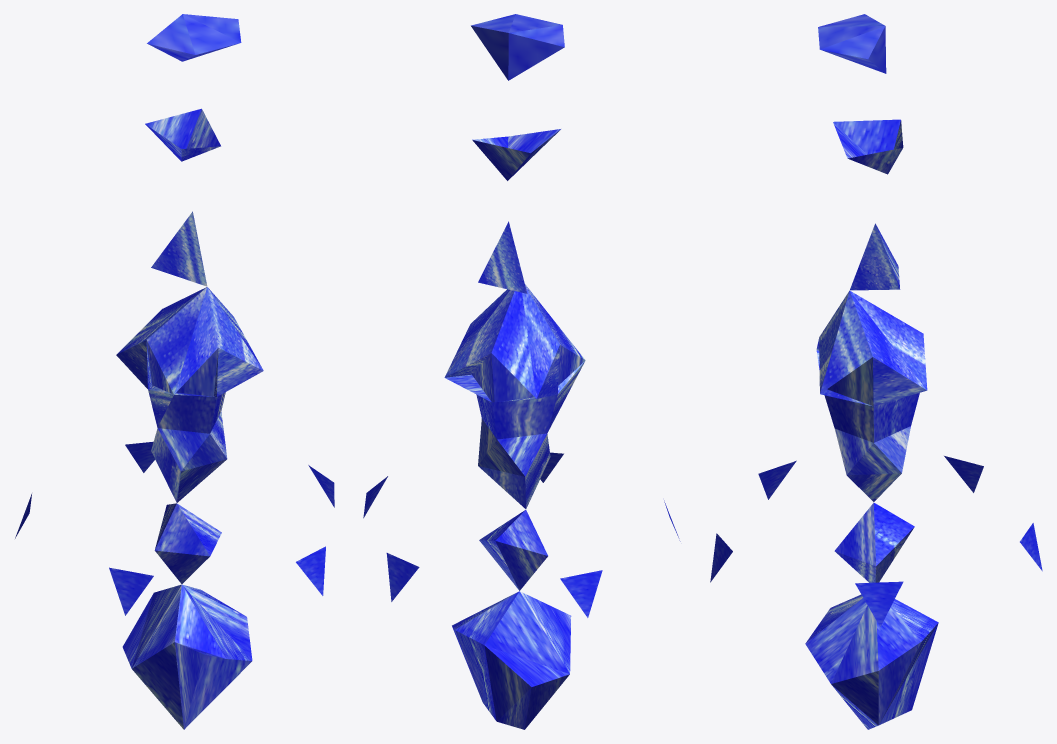
The picture shows the model from 3 angles, left to right: view 1: azimuth 30°, elevation 25°; view 2: azimuth 150°, elevation 25°; view 3: azimuth 270°, elevation 25°; orthographic projection.
Bounding box in the file's own units: 0.0671 × 0.1661 × 0.0707.
Materials: 1 (1 with a texture image).
